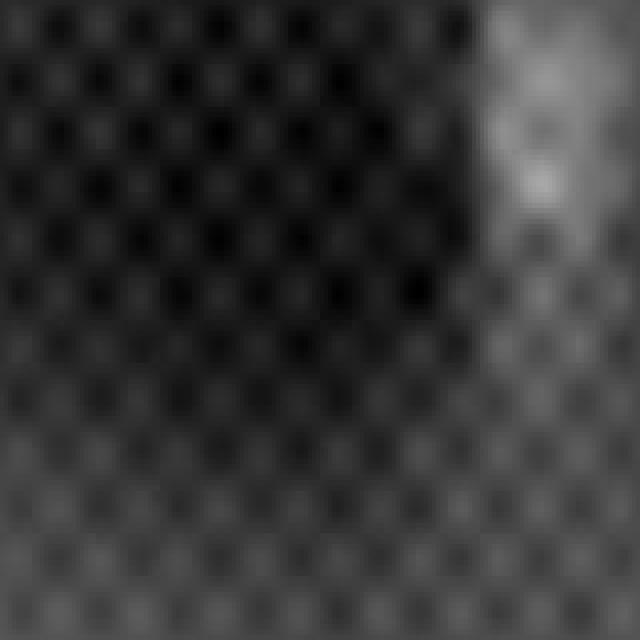person: (433, 1, 640, 481)
